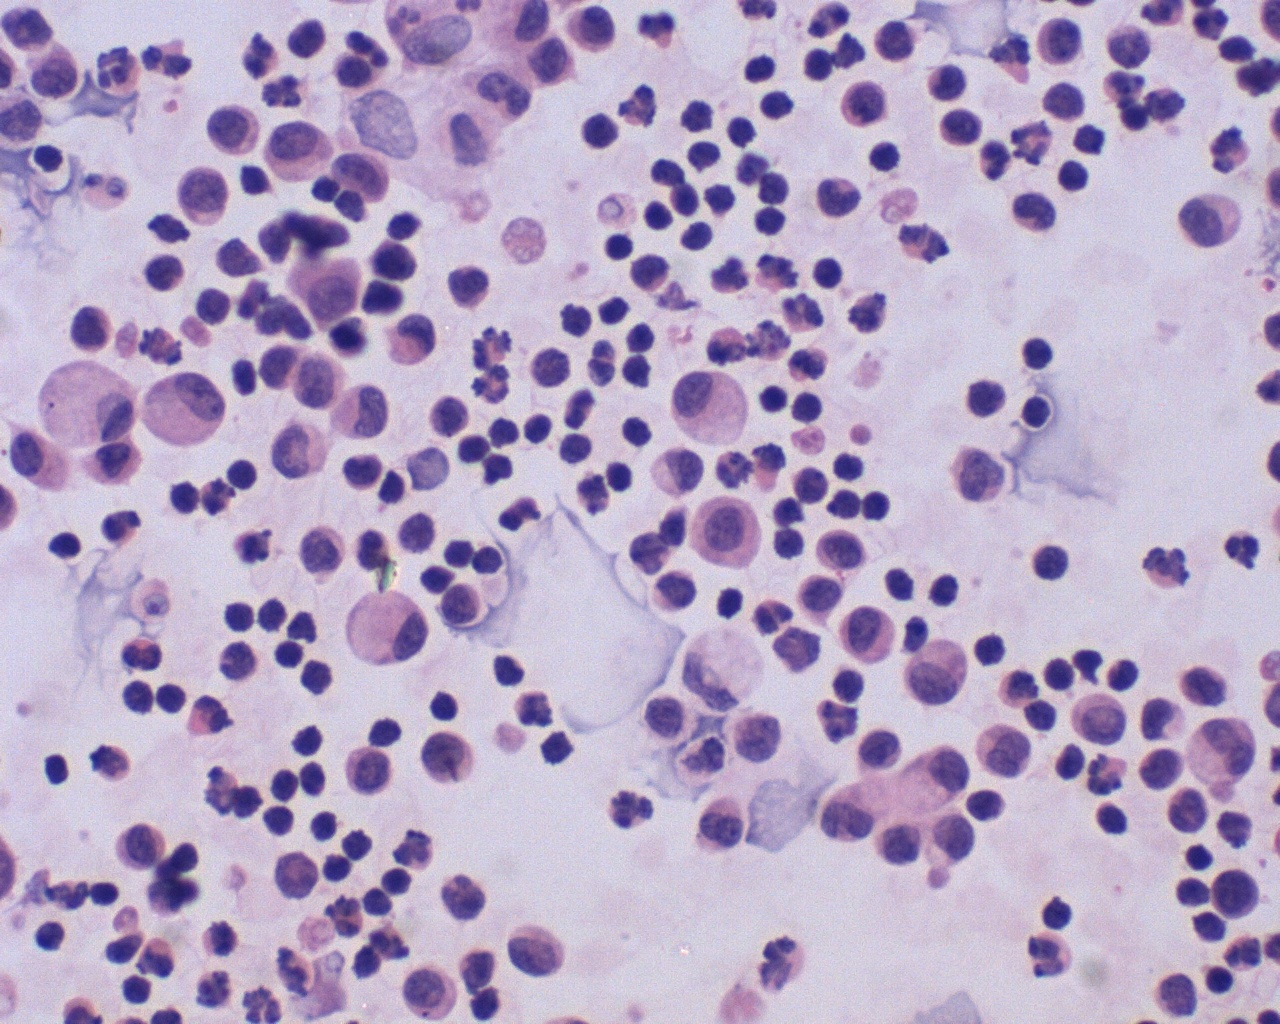ab: (294, 257, 366, 328), (413, 726, 483, 791), (173, 160, 238, 229), (499, 920, 571, 981), (323, 147, 396, 207), (839, 602, 901, 670), (399, 960, 463, 1024), (1068, 686, 1133, 749), (1211, 858, 1269, 926), (336, 744, 400, 802), (835, 76, 899, 135), (813, 518, 875, 578), (1033, 15, 1087, 67), (116, 822, 169, 872)
histo: (38, 354, 145, 449), (136, 363, 229, 456), (342, 583, 430, 674)
lymph: (755, 86, 806, 129), (1028, 540, 1075, 585), (809, 249, 853, 292), (1018, 331, 1056, 375), (315, 850, 356, 889), (748, 206, 794, 241), (861, 479, 895, 526), (860, 140, 904, 177), (1055, 158, 1093, 197), (261, 802, 298, 843), (603, 228, 635, 267), (1205, 962, 1239, 997)
meso: (667, 360, 755, 450), (688, 489, 770, 574), (262, 117, 336, 188)
neutro: (1219, 522, 1266, 580), (975, 136, 1017, 186)
